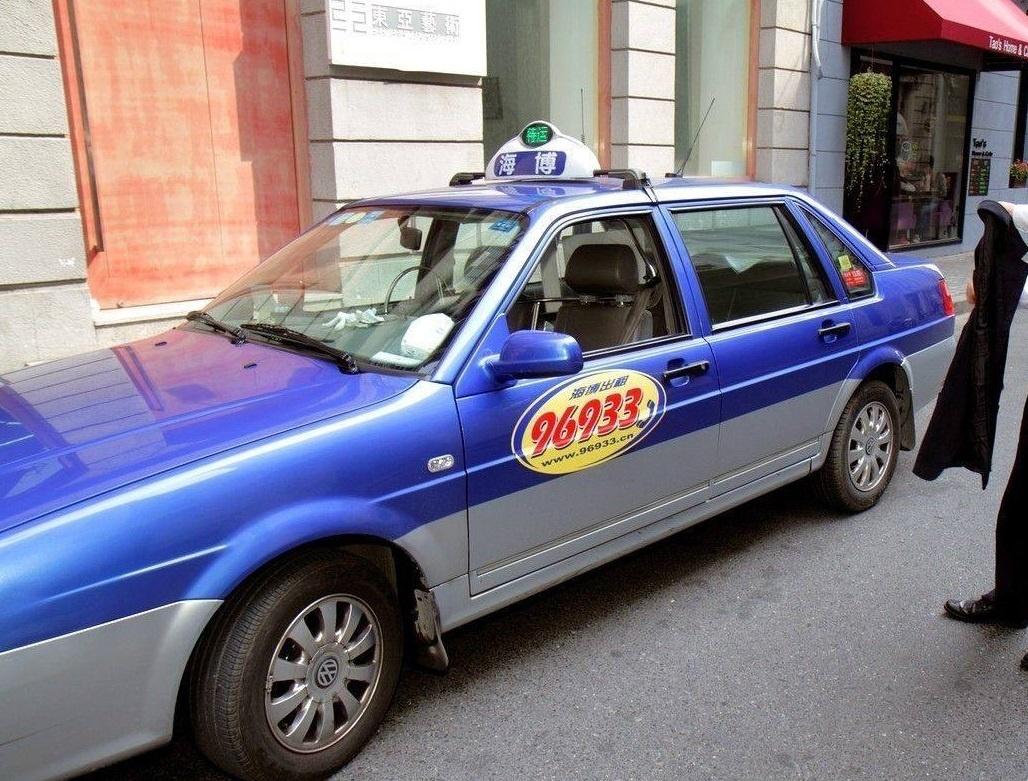taxi: (4, 156, 973, 767)
